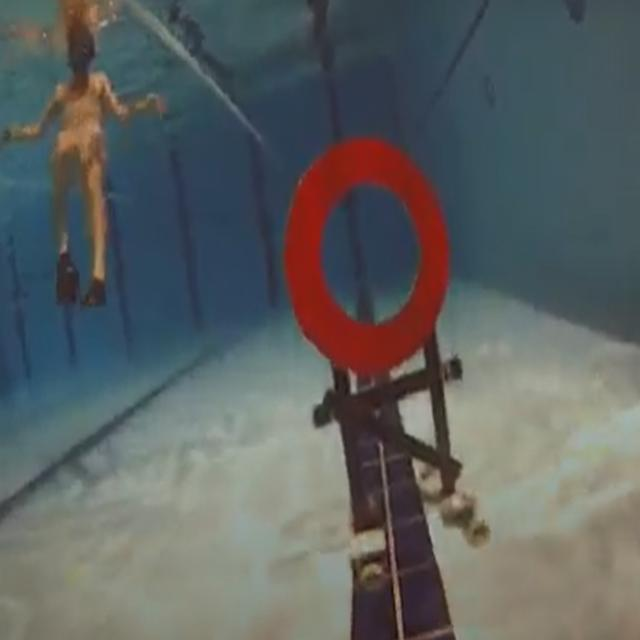Circle: (276, 128, 458, 377)
